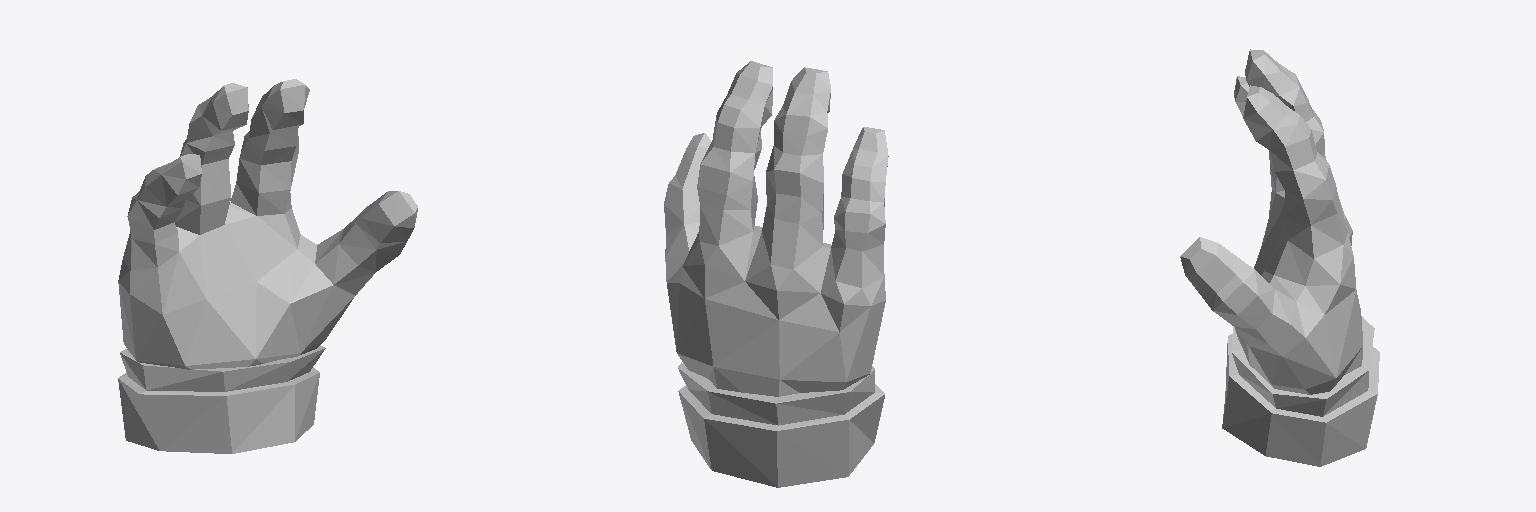
Rendered from obmrh.obj.
3 renders of one model, left to right at view 1: azimuth 30°, elevation 25°; view 2: azimuth 150°, elevation 25°; view 3: azimuth 270°, elevation 25°, orthographic.
Parts seen in each view (by area): view 1: Lefthand_Barak_Obama.002; view 2: Lefthand_Barak_Obama.002; view 3: Lefthand_Barak_Obama.002.
Part boxes in pixels (bbox=[...]): Lefthand_Barak_Obama.002: bbox=[118, 79, 417, 453]; Lefthand_Barak_Obama.002: bbox=[664, 61, 888, 487]; Lefthand_Barak_Obama.002: bbox=[1180, 49, 1379, 466].
Bounding box in the file's own units: 0.5343 × 0.7729 × 0.3753.